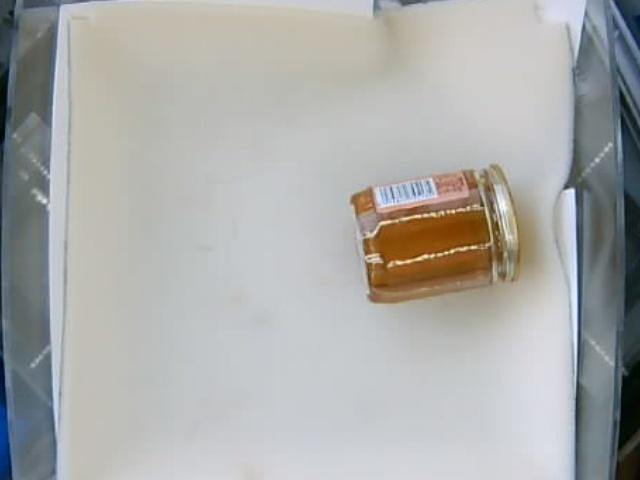Bottle: (354, 164, 526, 303)
